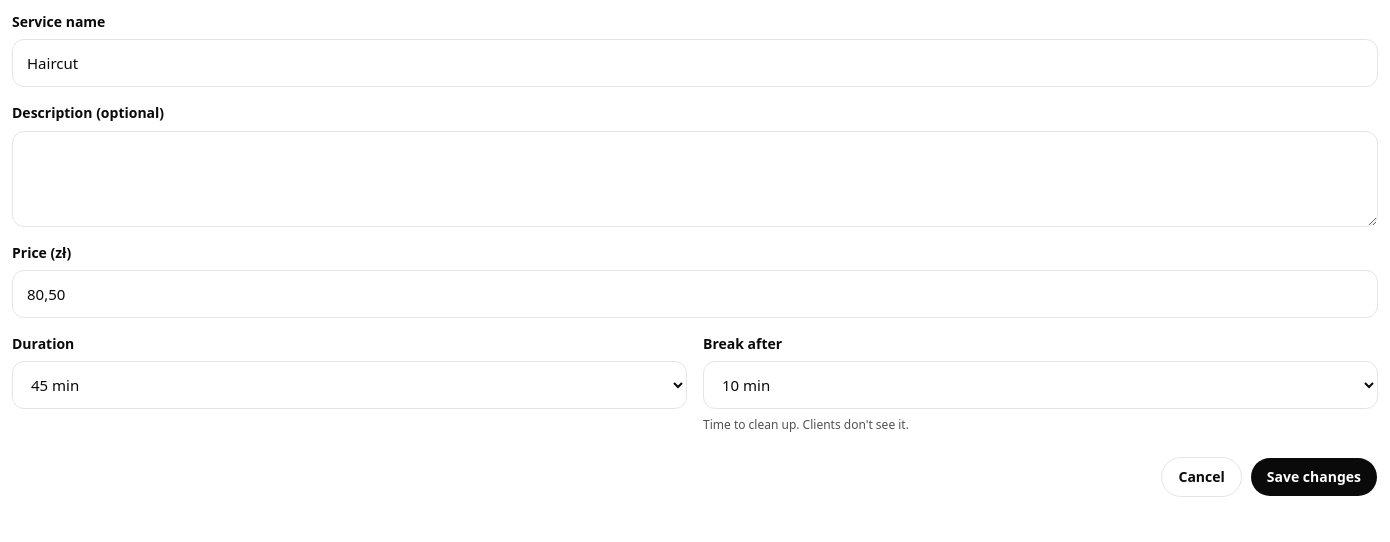
OfferingForm › shows a duplicate name from the server next to the name field
What coordinates should you click on to do the following:
click the button "Save changes"
I would click on:
 (1314, 477)
Its box is [1250, 457, 1378, 497].
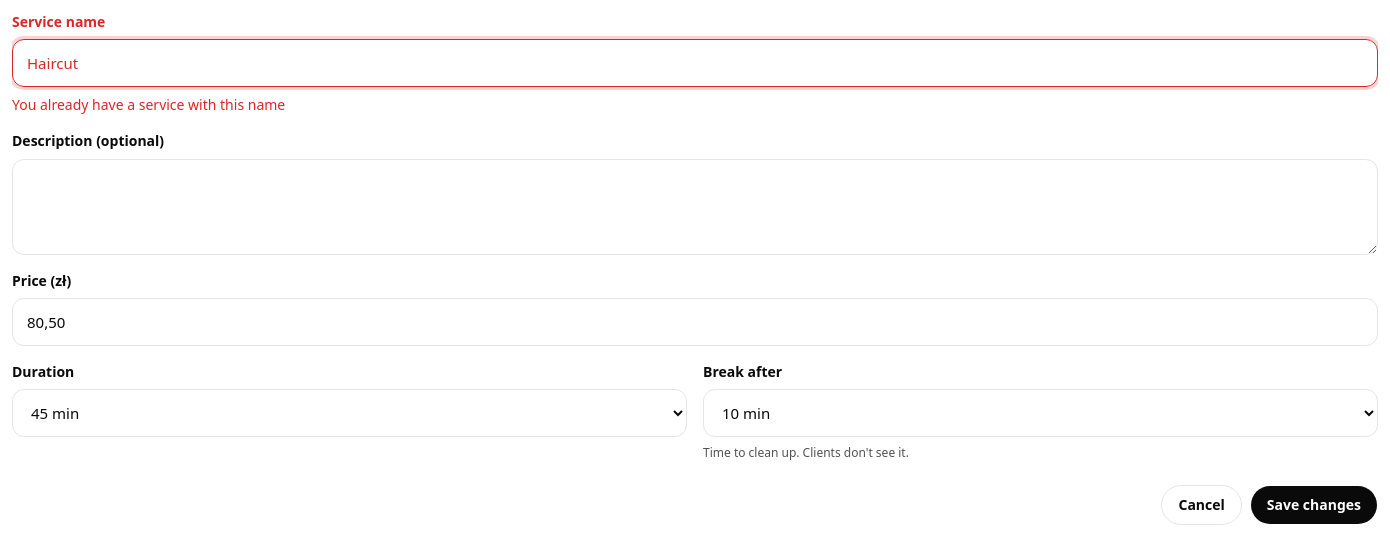
Expected: the text "You already have a service with this name" is shown, [12, 95, 285, 114]
